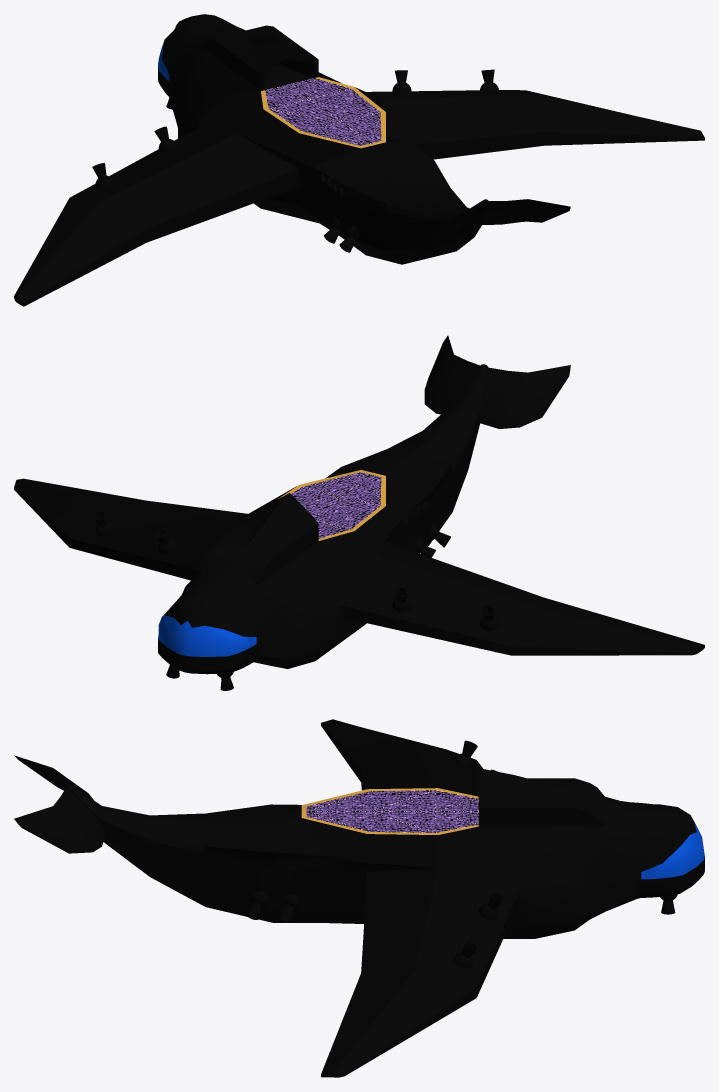
Rendered from DerelictShipExt.fbx.
3 renders of one model, top to bottom at view 1: azimuth 30°, elevation 25°; view 2: azimuth 150°, elevation 25°; view 3: azimuth 270°, elevation 25°, orthographic. The views are drawn at different scales.
Parts seen in each view (by area): view 1: Ship Exterior; view 2: Ship Exterior; view 3: Ship Exterior.
Part boxes in pixels (x1=…): Ship Exterior: x1=14, y1=14, x2=704, y2=306; Ship Exterior: x1=14, y1=335, x2=704, y2=690; Ship Exterior: x1=14, y1=719, x2=704, y2=1077.
Size of the model in its own units: 33084 by 6300 by 27336.
Materials: 4 (1 with a texture image).
